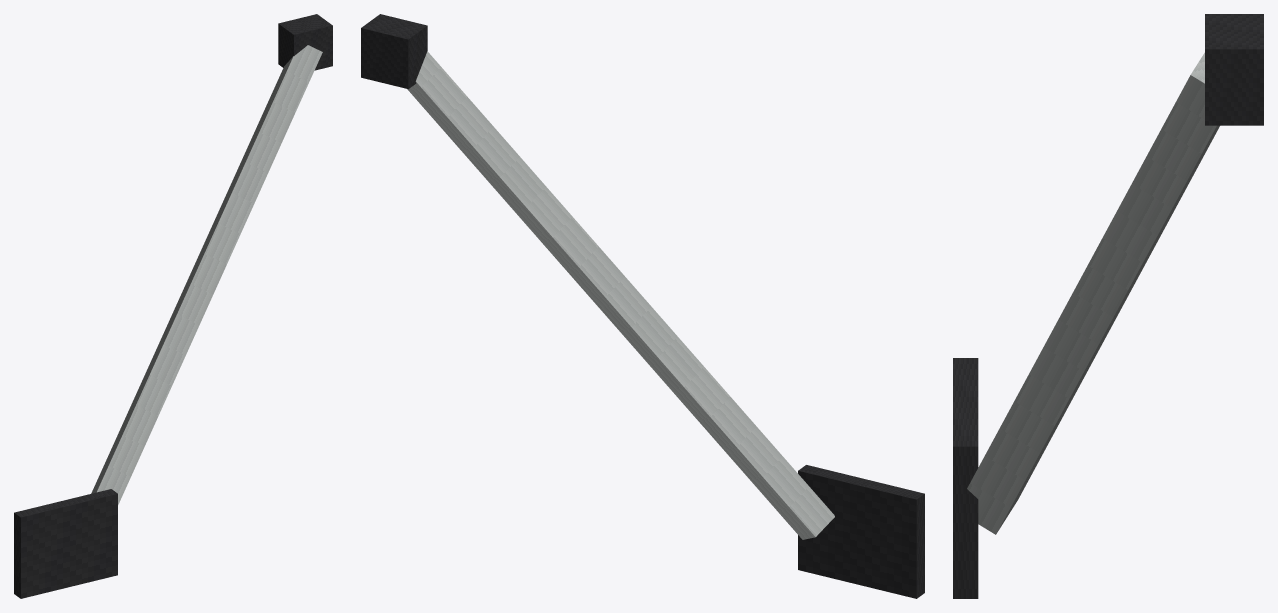
Rendered from brace_r.obj.
The picture shows the model from 3 angles, left to right: view 1: azimuth 30°, elevation 25°; view 2: azimuth 150°, elevation 25°; view 3: azimuth 270°, elevation 25°; orthographic projection. The views are drawn at different scales.
Visible parts, largest first — view 1: crossarm_brace_metal_r; view 2: crossarm_brace_metal_r; view 3: crossarm_brace_metal_r.
Boxes of the visible parts, x1,y1,x2,y2 form: crossarm_brace_metal_r: (14,14,332,598); crossarm_brace_metal_r: (361,14,924,598); crossarm_brace_metal_r: (953,14,1263,598).
Size of the model in its own units: 1.22 by 1.32 by 0.4625.
